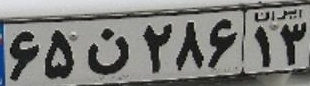character: (84, 25, 133, 80), (41, 27, 79, 85), (5, 27, 41, 84), (205, 14, 240, 72), (141, 19, 175, 76), (176, 17, 207, 75), (279, 21, 310, 68), (252, 24, 275, 70)
